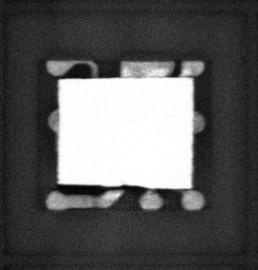DIE_BROKEN: (55, 182, 152, 191)
